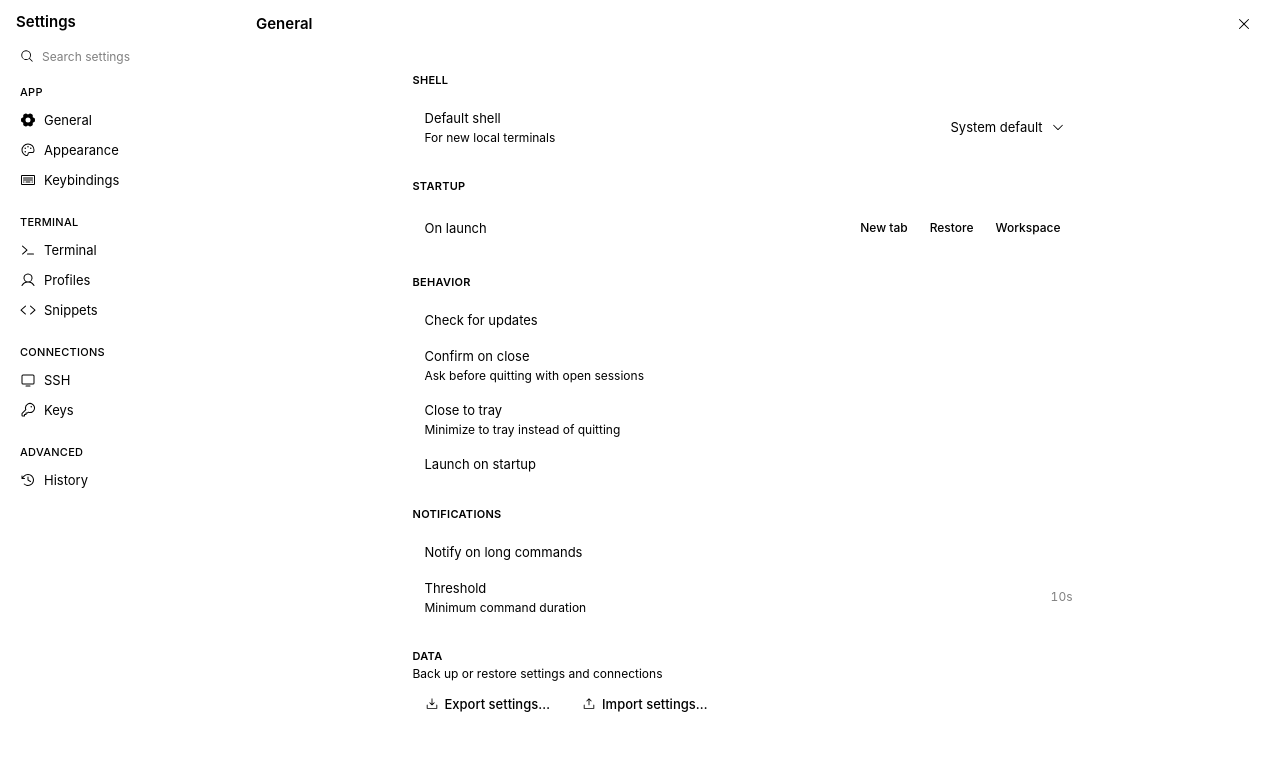
Test: SettingsView › switches panels from the navigation
This screenshot has width=1280, height=779.
Step 1. Click the button "Terminal" → (116,250), box [12, 236, 220, 264]
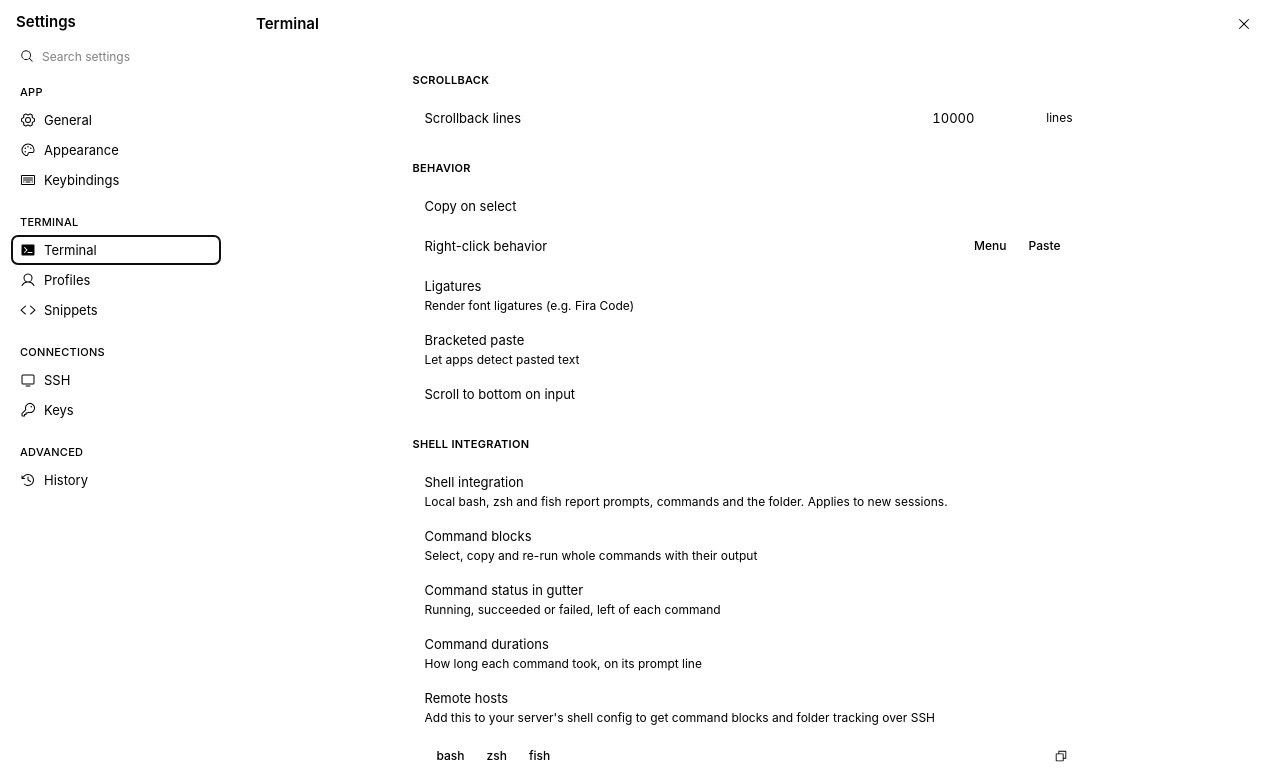
Expected: the heading "Terminal" is shown, [256, 14, 319, 34]
